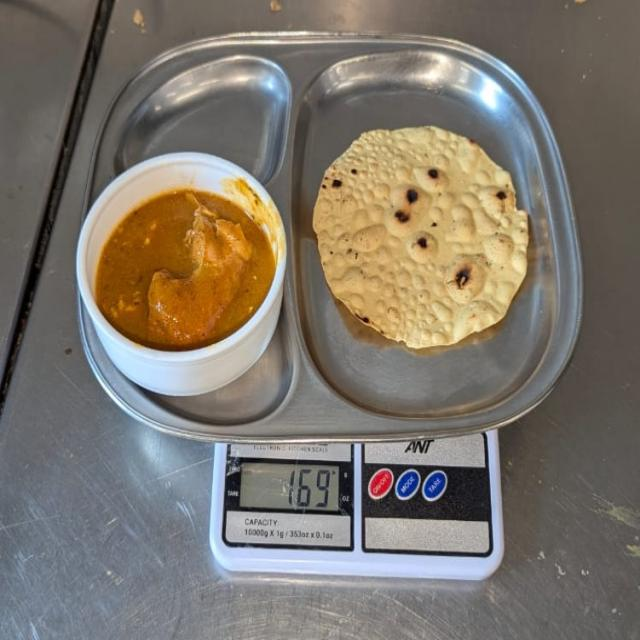Chicken Curry: (94, 192, 279, 348)
Papad: (310, 126, 534, 346)
